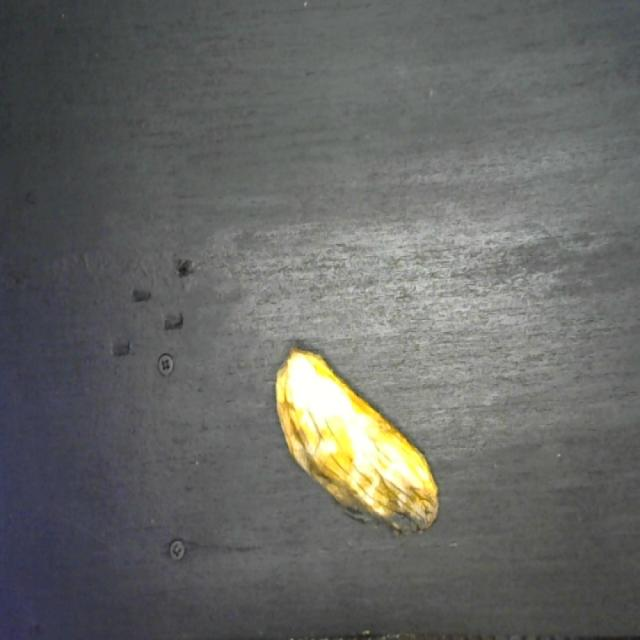biodegradable: (271, 342, 446, 538)
